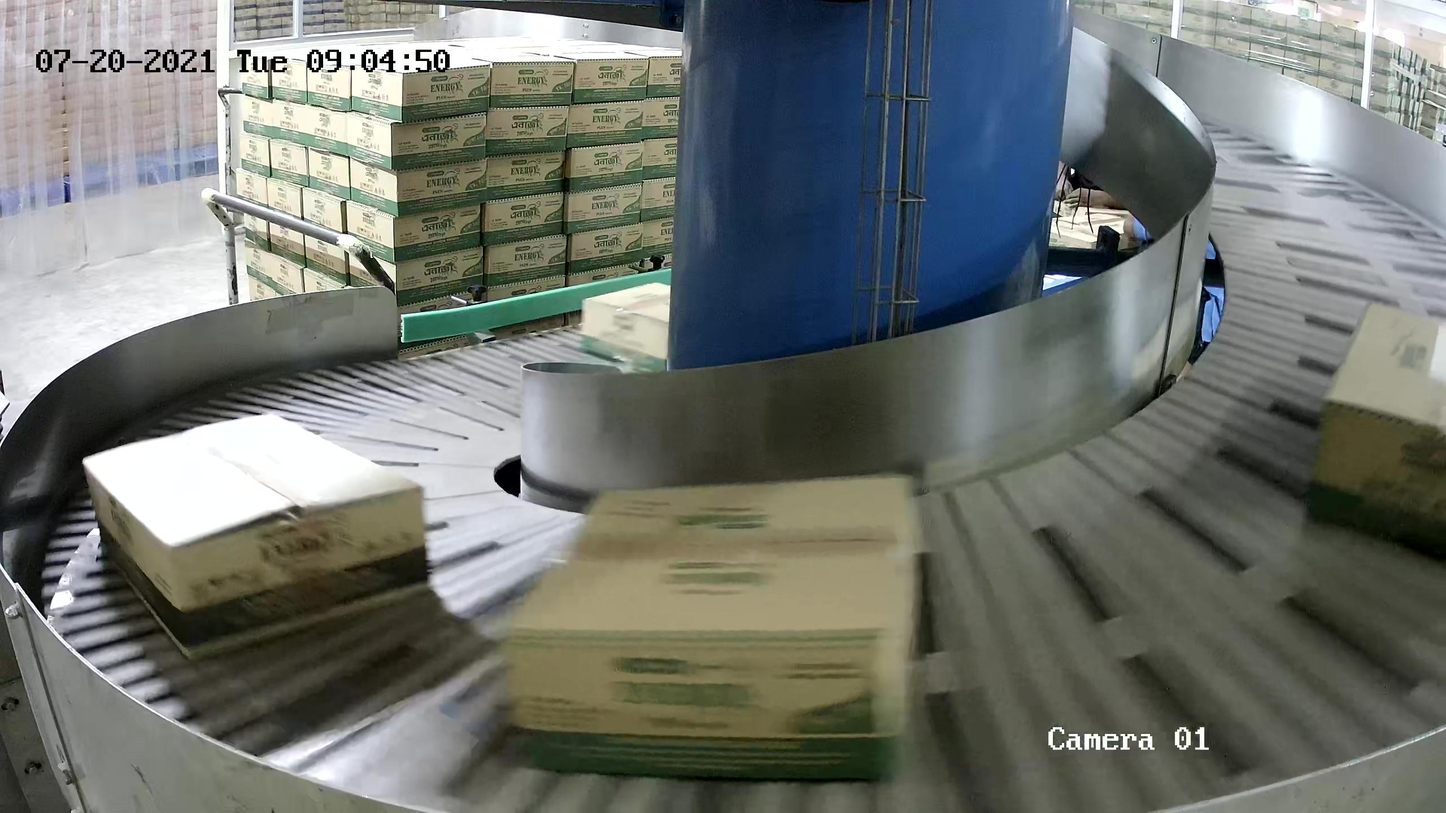Box: (498, 469, 921, 790), (80, 409, 432, 665), (1304, 297, 1446, 554), (578, 281, 671, 372)
